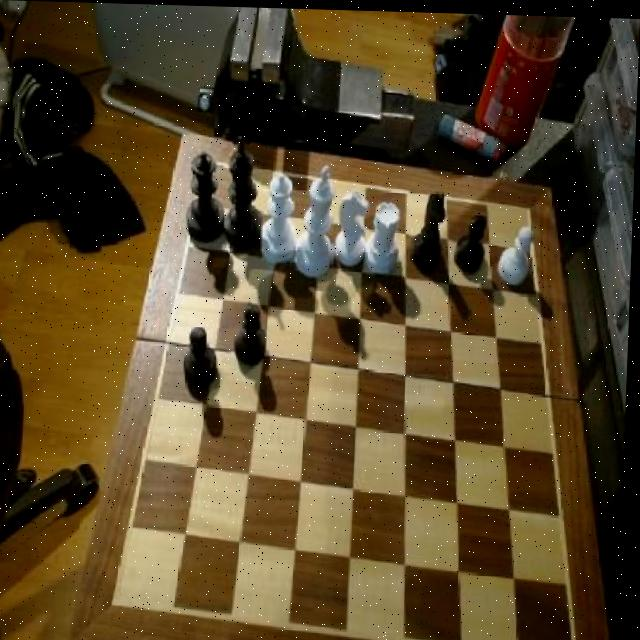black-bishop: (221, 132, 267, 250)
black-king: (409, 185, 450, 270)
black-knight: (183, 323, 223, 395), (233, 301, 271, 369), (453, 209, 491, 273)
black-pawn: (184, 149, 228, 247)
white-bishop: (296, 160, 342, 280)
white-king: (332, 186, 370, 267)
white-knight: (497, 219, 537, 284)
white-pawn: (258, 169, 302, 267)
white-queen: (361, 193, 404, 277)
